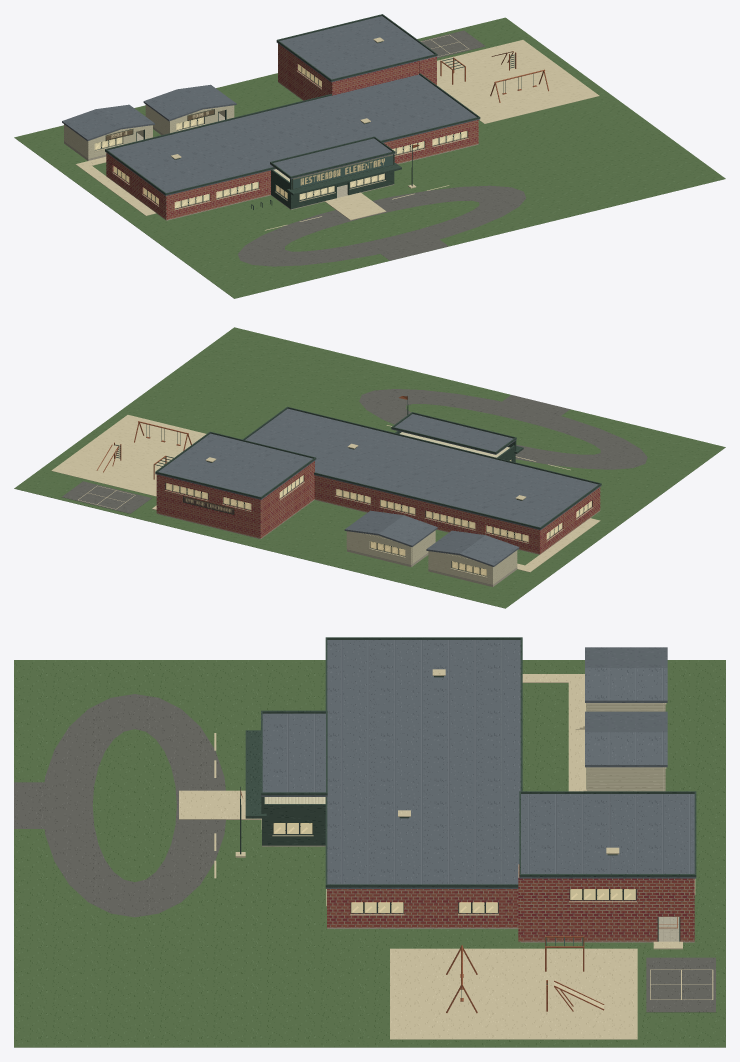
Rendered from westmeadow-1990-mid.glb.
The picture shows the model from 3 angles, top to bottom: view 1: azimuth 30°, elevation 25°; view 2: azimuth 150°, elevation 25°; view 3: azimuth 270°, elevation 25°; orthographic projection. The views are drawn at different scales.
Parts seen in each view (by area): view 1: lot, building_shell, portable_a, portable_b, sign_name; view 2: lot, building_shell, portable_a, portable_b; view 3: lot, building_shell, portable_b, portable_a.
Boxes of the visible parts, bbox=[...] form: lot: bbox=[14, 17, 725, 298]; building_shell: bbox=[105, 14, 480, 220]; portable_a: bbox=[62, 104, 154, 160]; portable_b: bbox=[143, 84, 236, 135]; sign_name: bbox=[292, 154, 393, 189]; lot: bbox=[14, 327, 725, 608]; building_shell: bbox=[152, 406, 601, 554]; portable_a: bbox=[426, 530, 519, 586]; portable_b: bbox=[344, 510, 437, 567]; lot: bbox=[14, 660, 725, 1047]; building_shell: bbox=[245, 637, 696, 949]; portable_b: bbox=[575, 711, 667, 791]; portable_a: bbox=[575, 647, 667, 729].
Size of what is drawn, in the model's own units: 85 by 7.13 by 66.
Materials: 11 (11 with a texture image).
